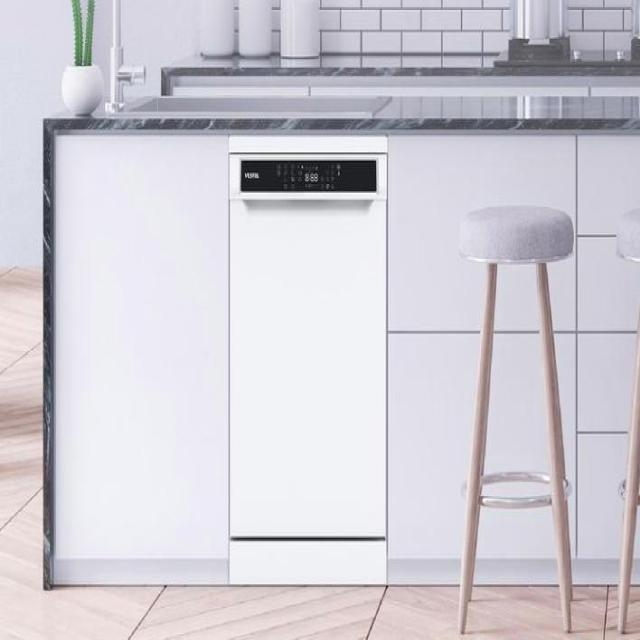dishwasher: (228, 129, 388, 587)
